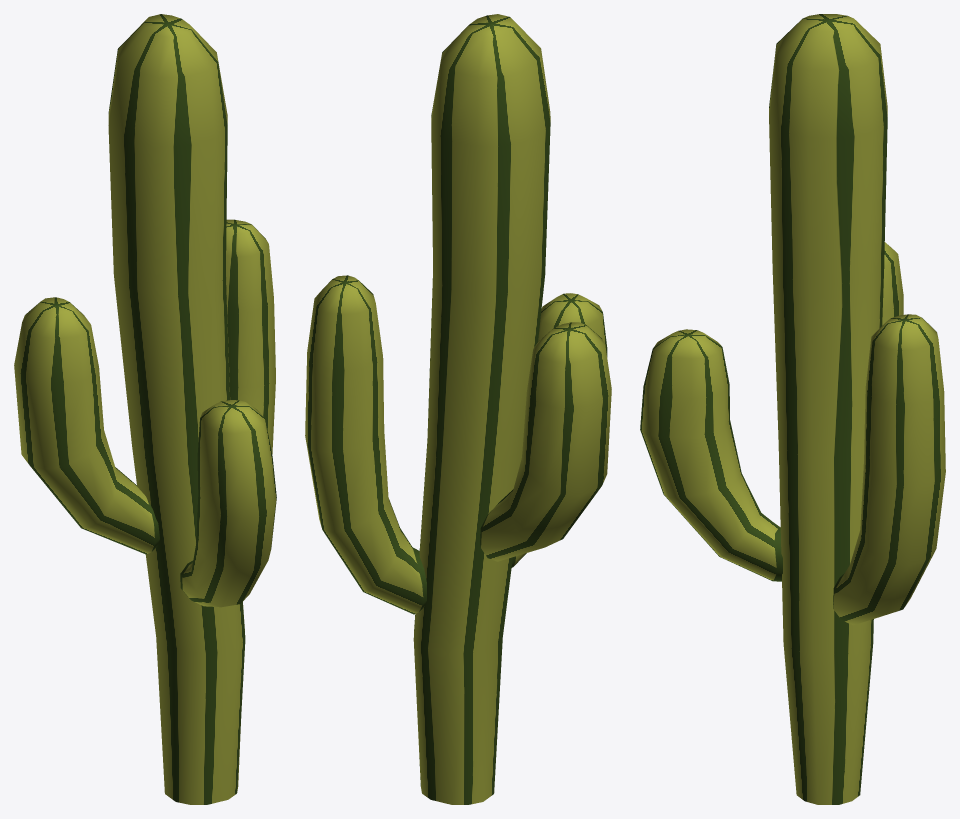
File: BR_Cactus_1x3x1.fbx
3 views of the same model, side by side, from view 1: azimuth 30°, elevation 25°; view 2: azimuth 150°, elevation 25°; view 3: azimuth 270°, elevation 25° (orthographic). The views are drawn at different scales.
Parts seen in each view (by area): view 1: BR_Cactus_1x3x1; view 2: BR_Cactus_1x3x1; view 3: BR_Cactus_1x3x1.
Part boxes in pixels (x1,y1,x2,y2): BR_Cactus_1x3x1: [14, 14, 276, 804]; BR_Cactus_1x3x1: [305, 14, 611, 804]; BR_Cactus_1x3x1: [640, 14, 945, 804].
Size of the model in its own units: 111 by 301 by 111.
